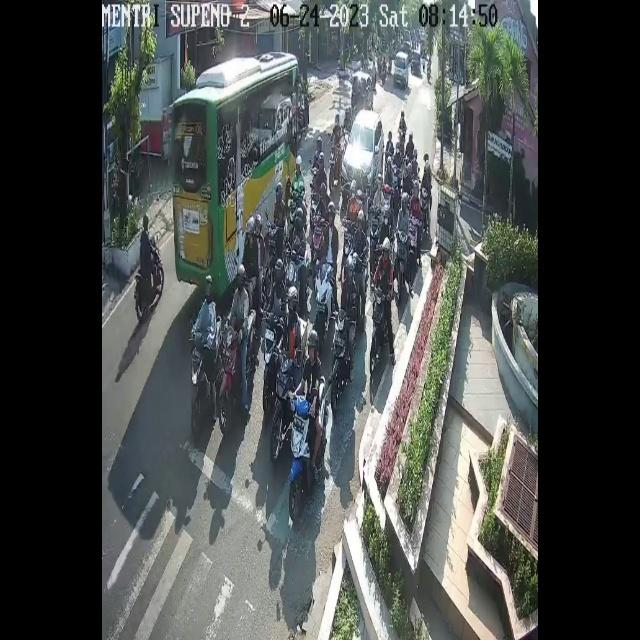bus: (288, 375, 328, 524), (220, 308, 257, 434), (190, 316, 222, 441), (270, 351, 295, 468), (134, 238, 164, 322), (259, 312, 284, 408), (331, 309, 355, 409), (369, 284, 392, 373), (314, 260, 332, 340), (395, 230, 409, 306), (262, 219, 281, 267), (284, 251, 305, 292), (328, 141, 341, 194), (341, 218, 357, 256), (408, 215, 418, 275), (368, 218, 379, 267), (380, 190, 393, 224), (419, 186, 428, 230), (313, 215, 323, 253), (289, 188, 303, 215), (391, 164, 403, 192), (310, 190, 321, 217), (308, 166, 318, 185), (397, 127, 406, 143)
car: (172, 50, 301, 298)
motorcycle: (340, 108, 384, 201), (352, 71, 374, 113), (393, 50, 409, 89)
